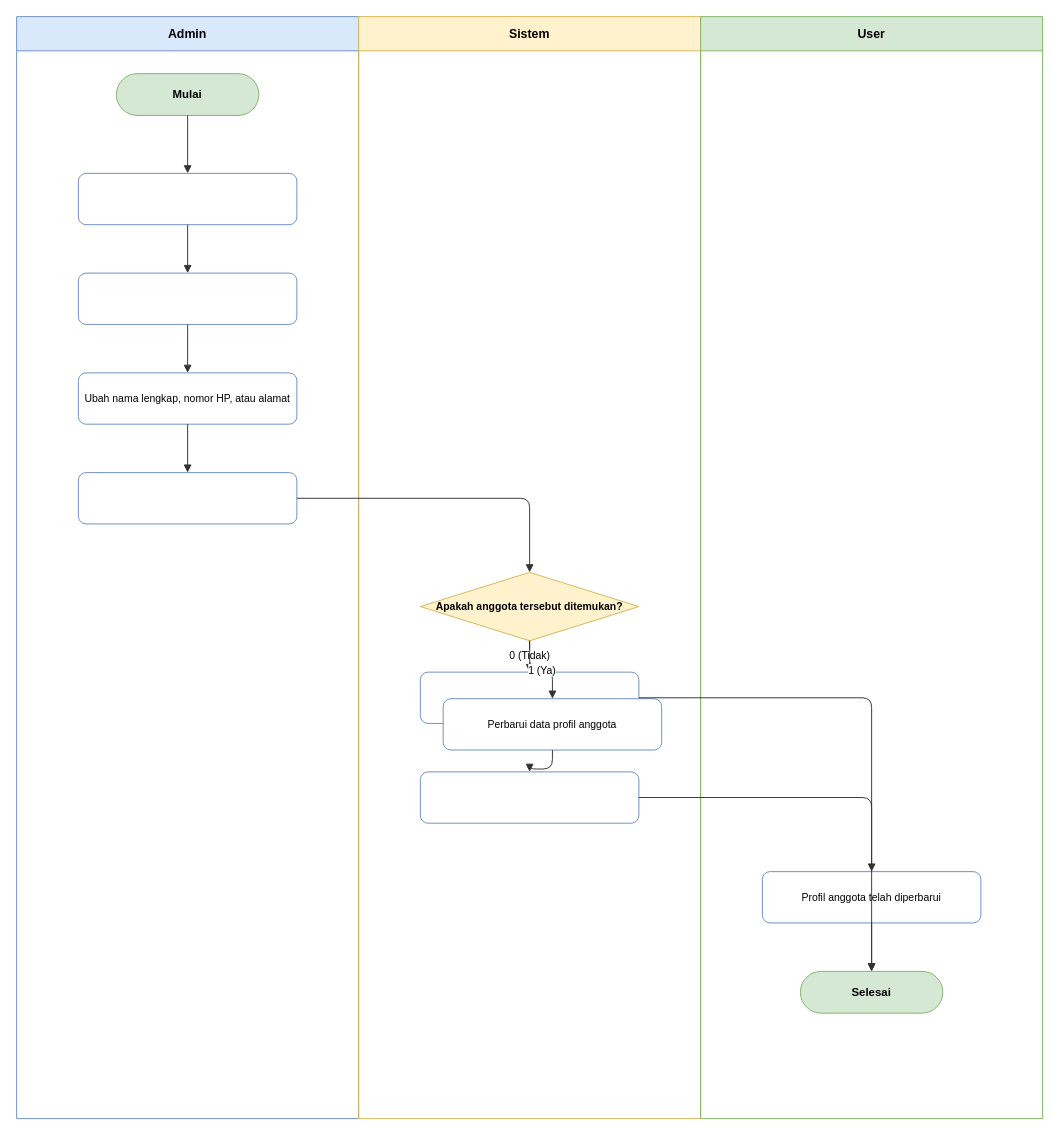
This 1059x1135 diagram has some shape labels left out. The shapes that lost their labels are listed below. From the top down, each one's centre as x and y in pixels, then its label:
pixel 187 198: Buka menu daftar anggota
pixel 187 298: Pilih anggota yang ingin diubah datanya
pixel 187 498: Klik tombol simpan perubahan
pixel 529 697: Tampilkan pesan anggota tidak ditemukan
pixel 529 797: Tampilkan pesan data anggota berhasil diperbarui
